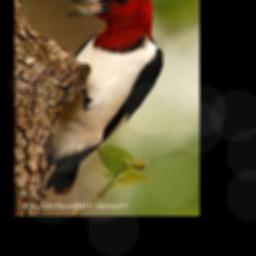Woodpecker: (46, 0, 165, 195)
